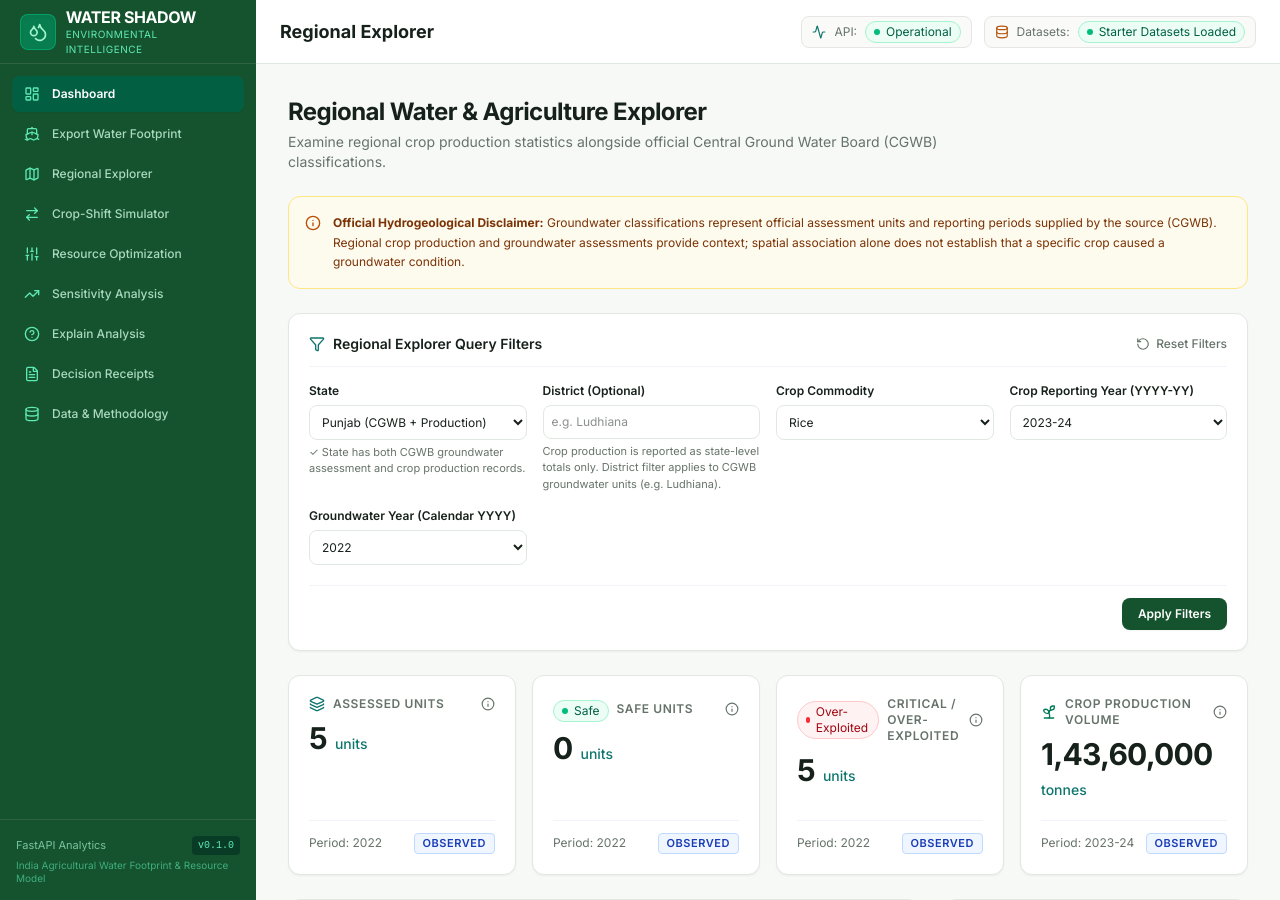
Scenario: RegionalExplorerPage Integration › resets filters back to defaults on Reset click
Type "Ludhiana" into the field with placeholder "e.g. Ludhiana". click: (651, 422)
box: [542,404,760,438]
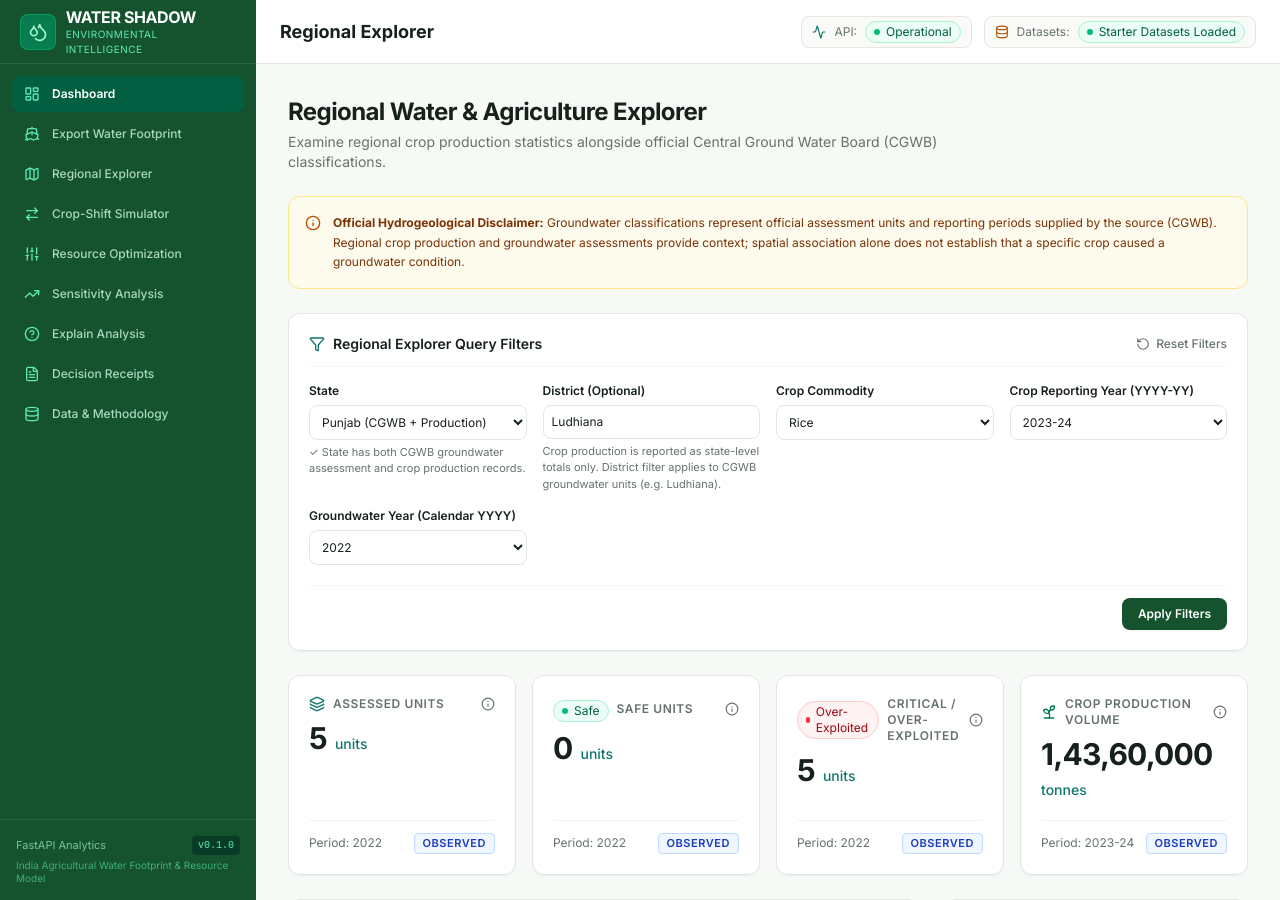
Click the button "Reset Filters". click: (1182, 344)
box: [1136,336,1227,352]
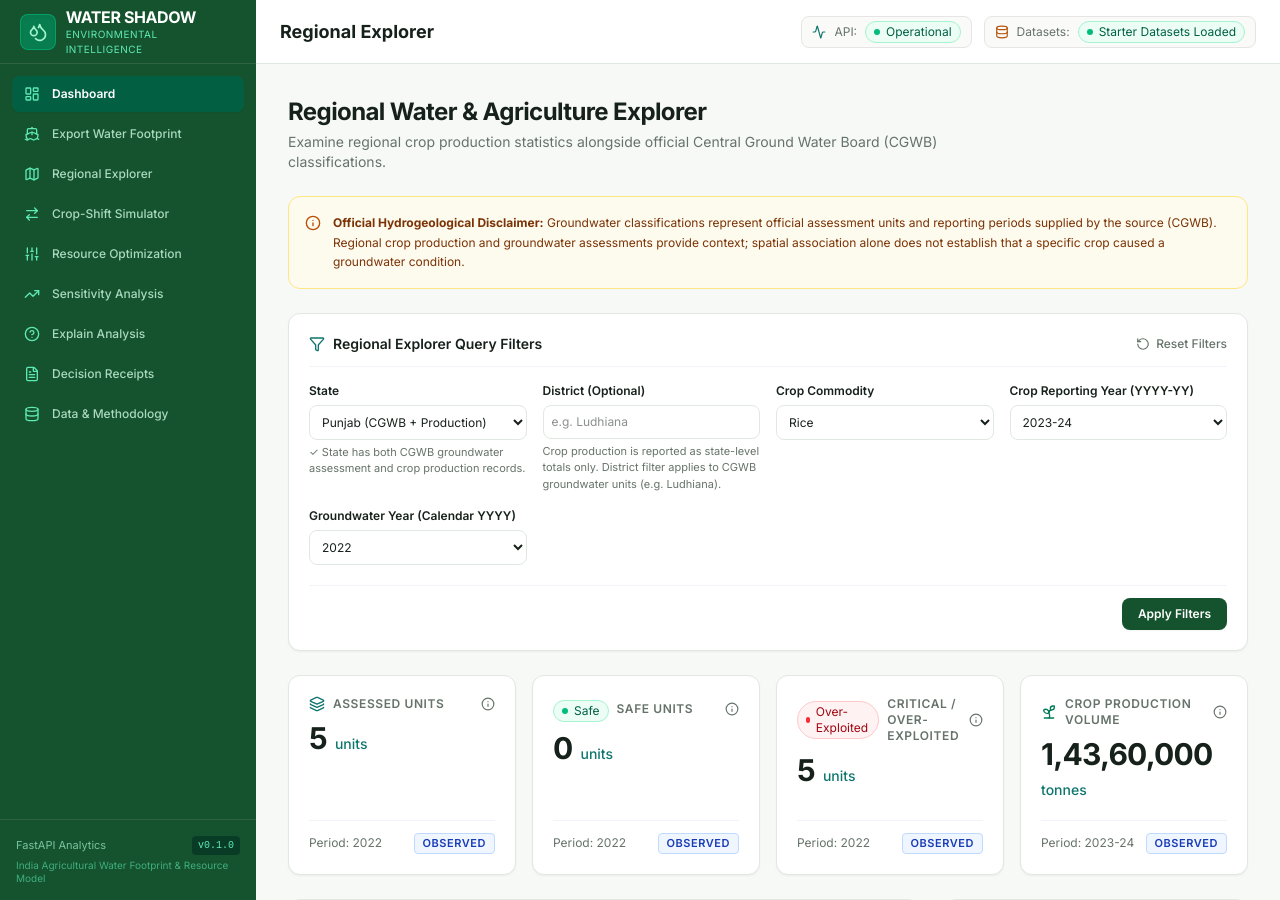
Now the field with placeholder "e.g. Ludhiana" is empty, box [542,404,760,438]
